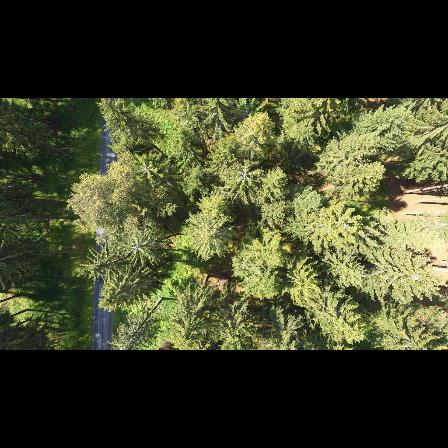Sick: (226, 159, 265, 190), (125, 233, 151, 260), (133, 154, 155, 182)
